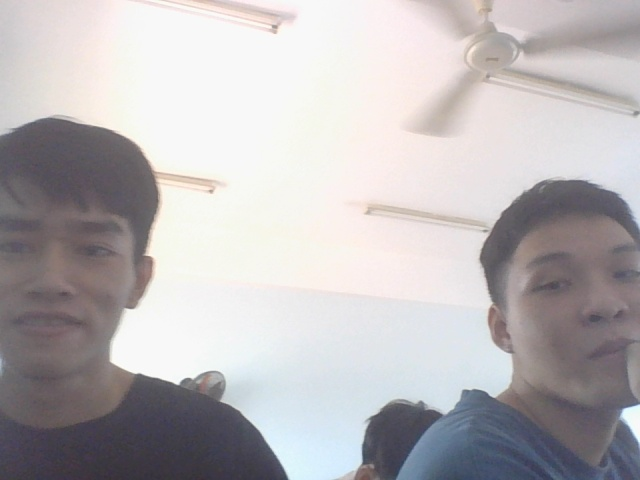real: (0, 100, 212, 400), (494, 163, 640, 419)
